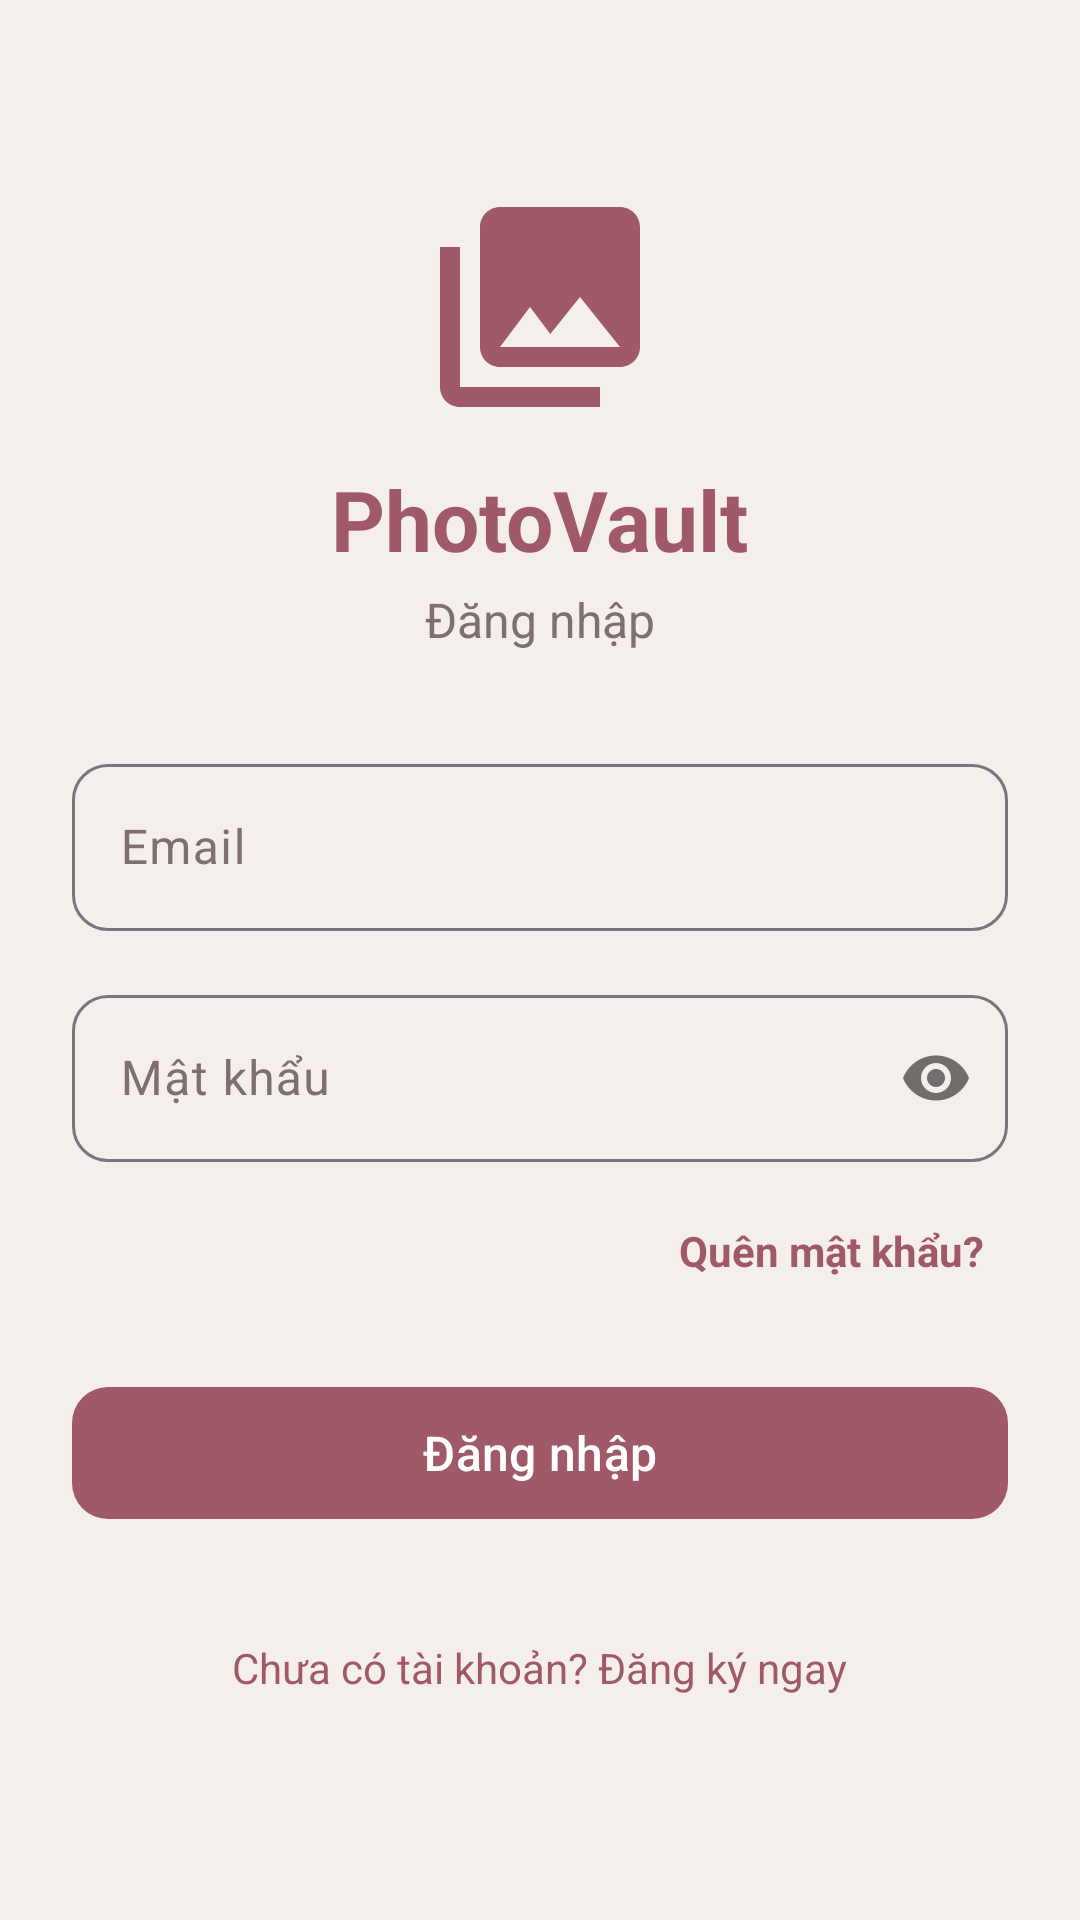

Where icons sit on this 1080x1920 app screen, as (x1, y1, x2, y2):
library: (440, 207, 640, 407)
